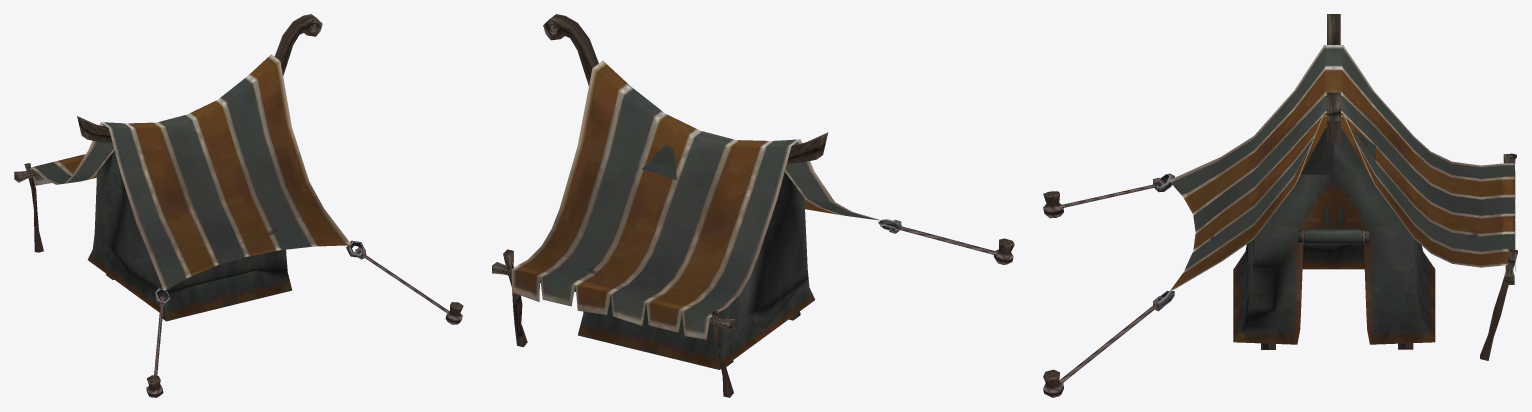
3 renders of one model, left to right at view 1: azimuth 30°, elevation 25°; view 2: azimuth 150°, elevation 25°; view 3: azimuth 270°, elevation 25°, orthographic. The views are drawn at different scales.
Size of the model in its own units: 13.01 by 9.37 by 13.87.
Materials: 2 (2 with a texture image).
